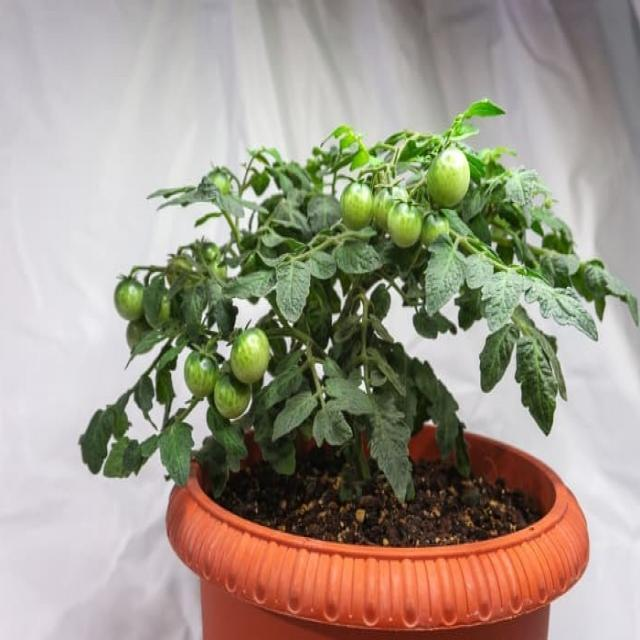tomato: (78, 100, 640, 505)
